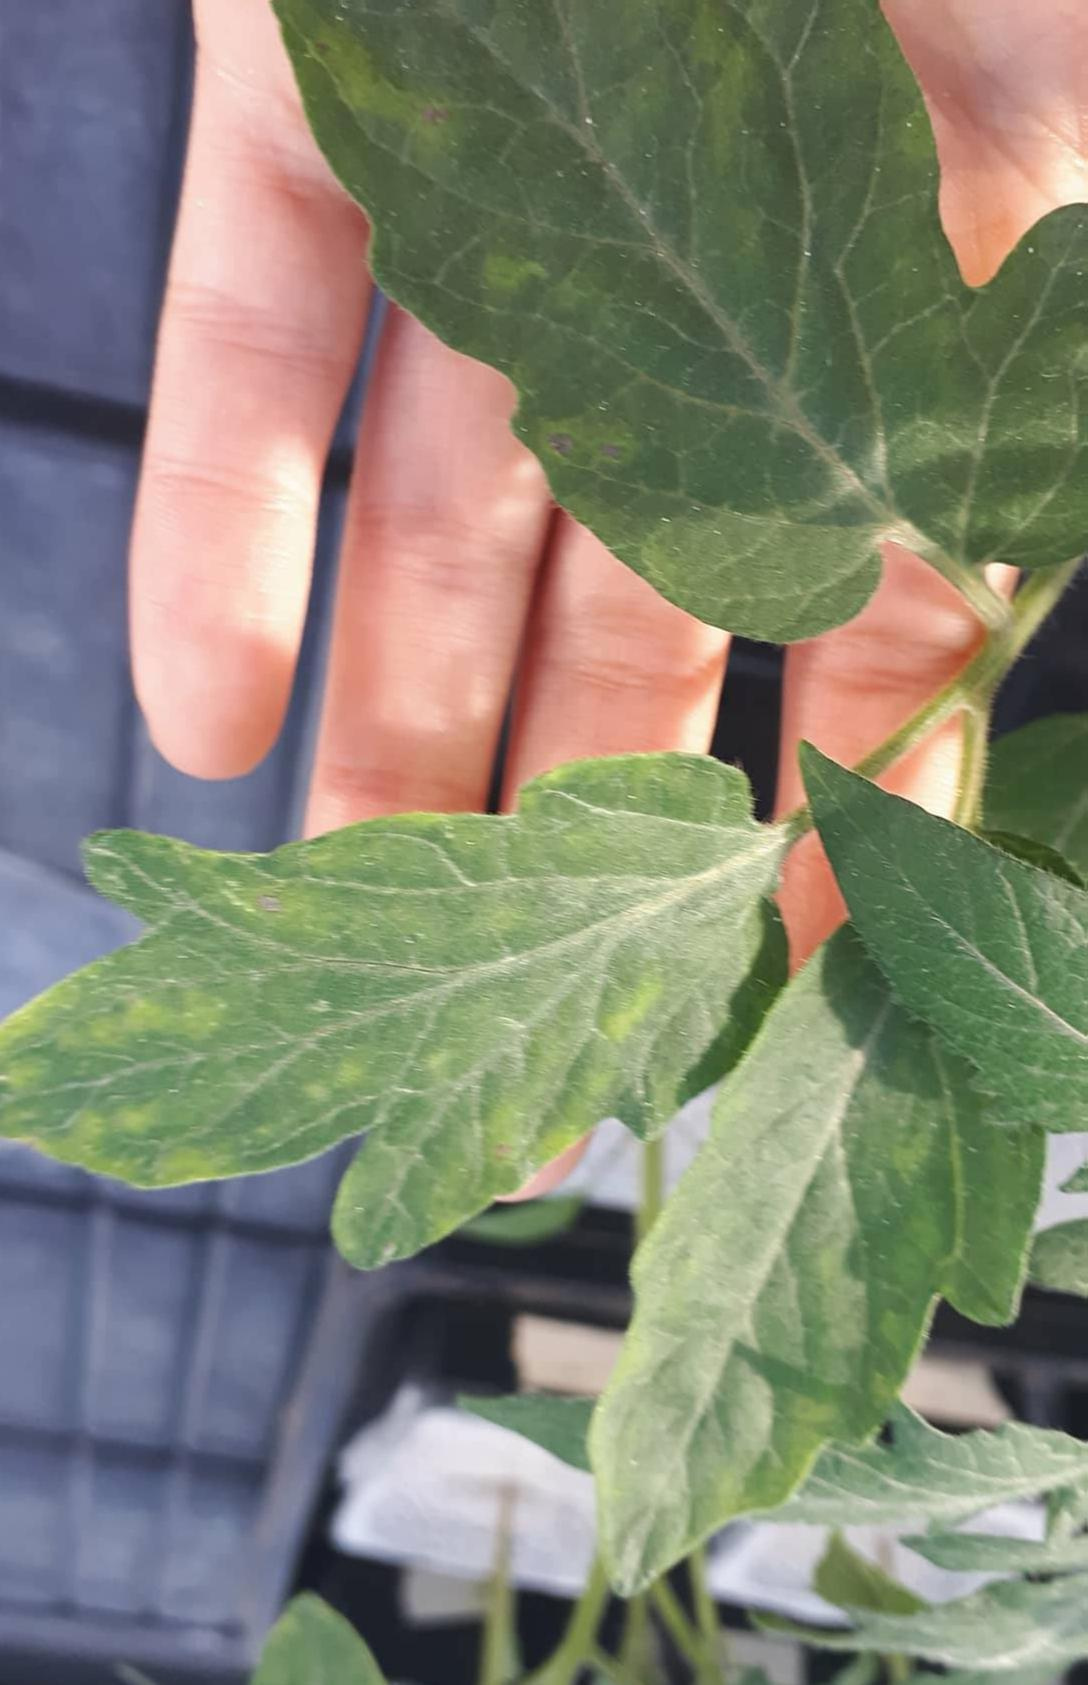Tomato mold leaf: (228, 0, 1088, 664), (0, 777, 813, 1294), (791, 699, 1088, 1191)
